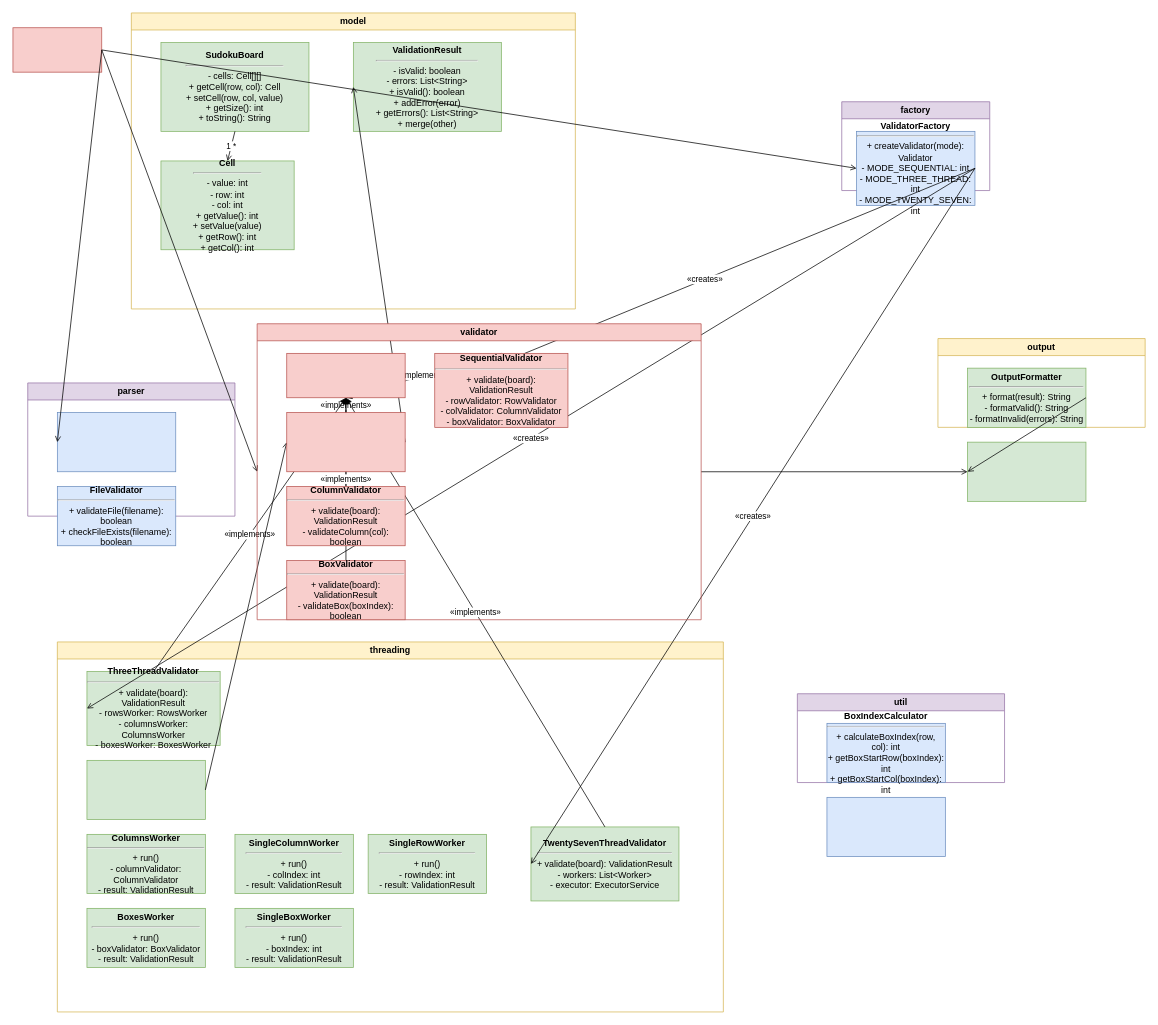
Image size: 1158x1025. Some labels were removed from this diagram. Here are the shapes that lost their labels. From the top down, the centre of each, then its label:
At point (57, 49): "Main - main(String[] args)".
At point (345, 375): "Validator + validate(board): ValidationResult".
At point (116, 442): "CSVParser + parse(filename): SudokuBoard + validateFormat(lines): boolean".
At point (345, 442): "RowValidator + validate(board): ValidationResult - validateRow(row): boolean".
At point (1026, 471): "ResultPrinter + print(result) + printFormatted(output)".
At point (145, 790): "RowsWorker + run() - rowValidator: RowValidator - result: ValidationResult".
At point (885, 827): "Constants + BOARD_SIZE: int = 9 + BOX_SIZE: int = 3 + EMPTY_CELL: int = 0".
